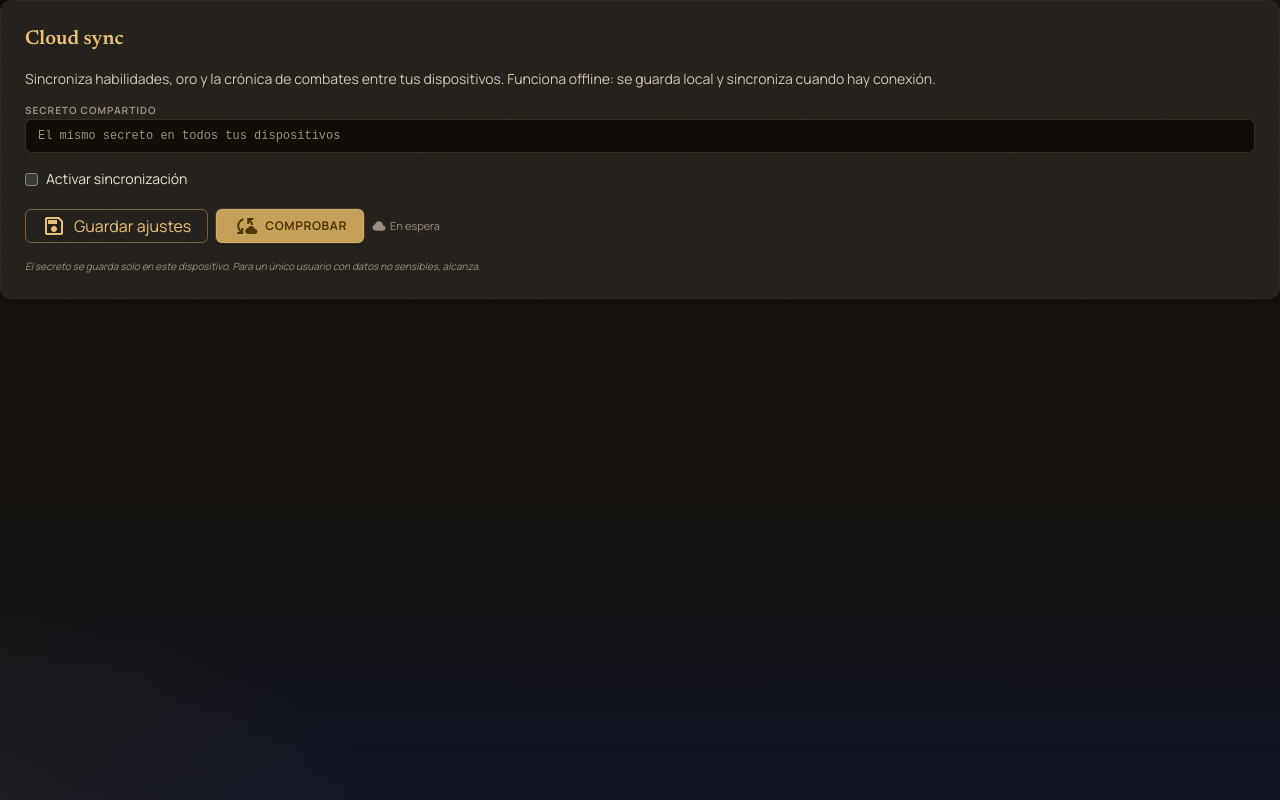
Test: CloudSyncSettings — enabling without a secret › drops the warning once the secret is typed
The image size is (1280, 800).
Click the checkbox labelled "Activar sincronización".
click(32, 179)  # box top-left (25, 172), bottom-right (38, 186)
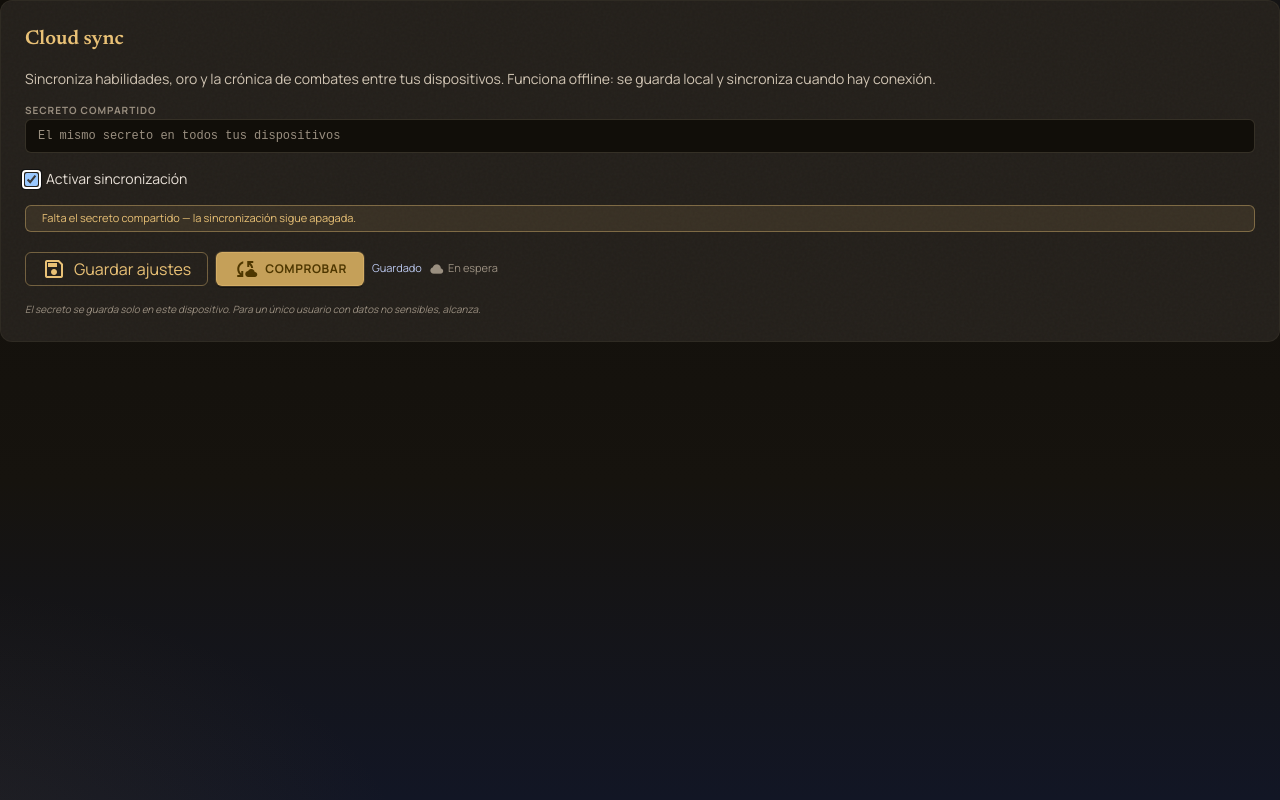
Type "s3cret" into the password field with placeholder "El mismo secreto en todos tus dispositivos".
click(640, 136); type("s3cret")  # box top-left (25, 119), bottom-right (1255, 153)
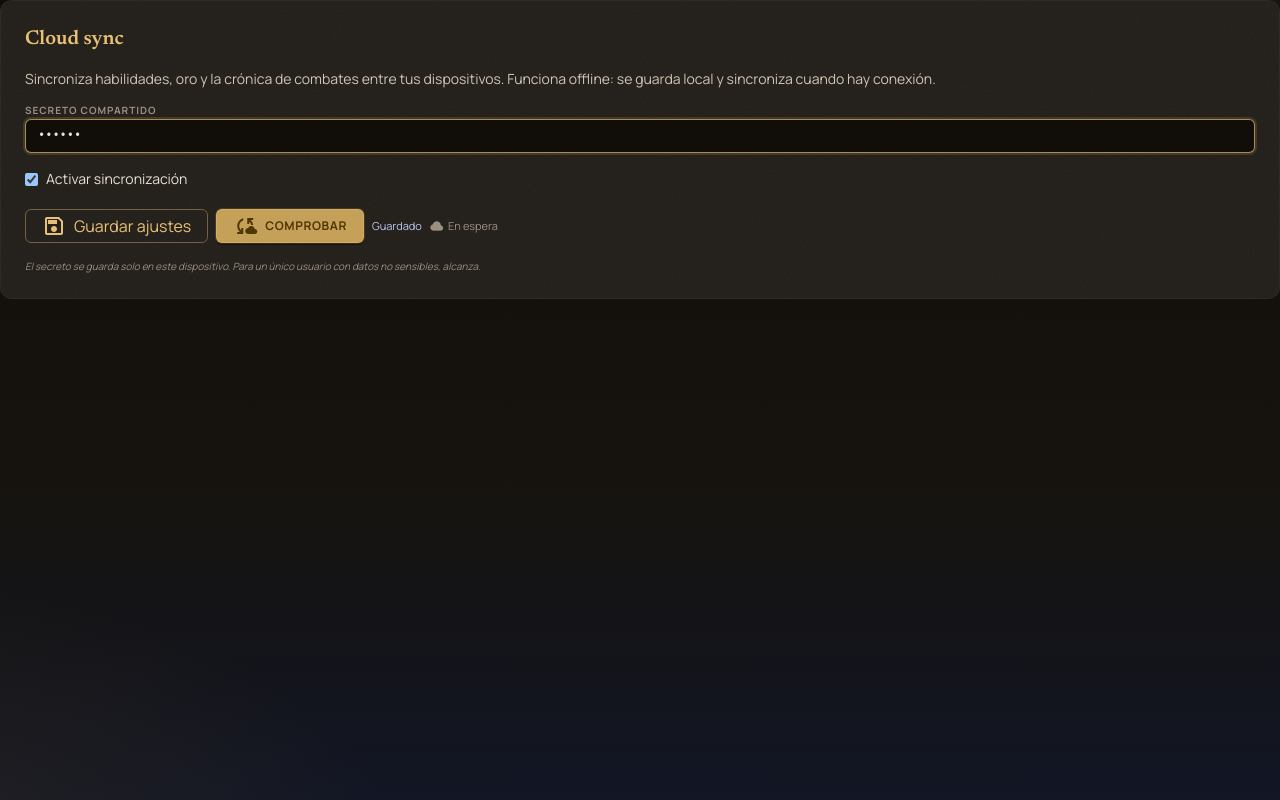
expect the text "Falta el secreto compartido" is gone: met
